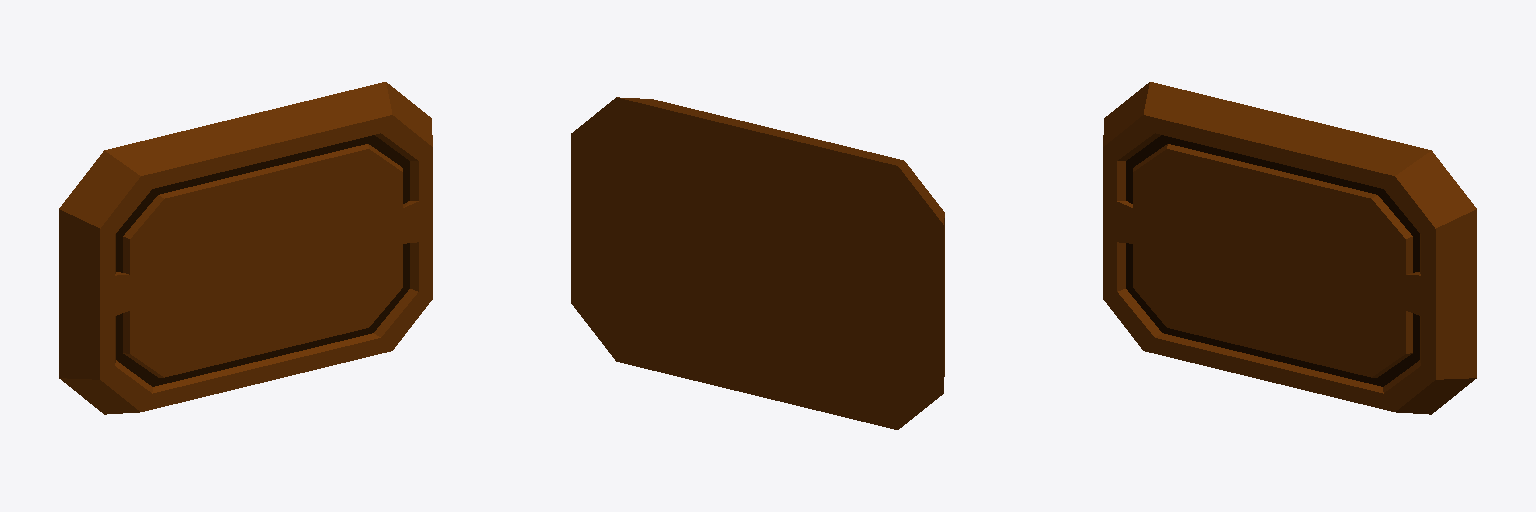
The model's file is Details_Basic_4.obj.
3 views of the same model, side by side, from view 1: azimuth 30°, elevation 25°; view 2: azimuth 150°, elevation 25°; view 3: azimuth 330°, elevation 25° (orthographic).
Visible parts, largest first — view 1: Details_Basic_4_Cube.056; view 2: Details_Basic_4_Cube.056; view 3: Details_Basic_4_Cube.056.
Part boxes in pixels (x1,y1,x2,y2): Details_Basic_4_Cube.056: (59, 82, 432, 414); Details_Basic_4_Cube.056: (571, 97, 944, 429); Details_Basic_4_Cube.056: (1103, 82, 1476, 414).
Bounding box in the file's own units: 0.6795 × 0.4605 × 0.068.